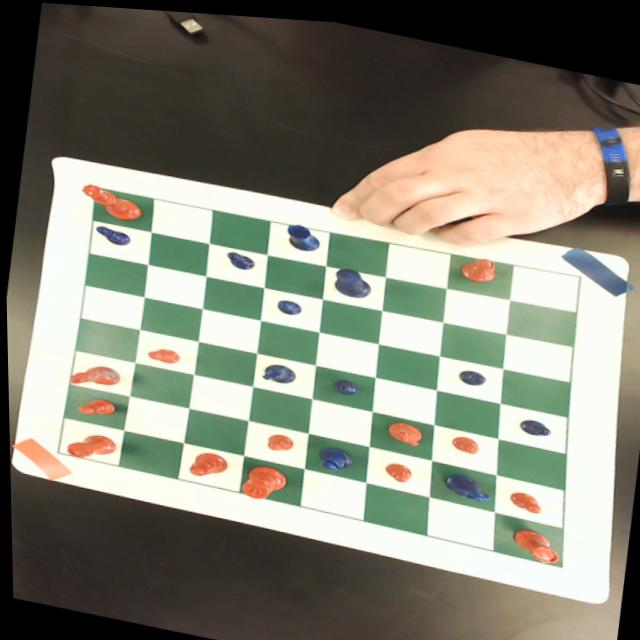B: (316, 439, 353, 469)
K: (331, 261, 374, 296)
N: (440, 463, 493, 498), (258, 357, 297, 383)
P: (93, 221, 131, 245), (515, 409, 553, 432), (454, 360, 486, 382), (223, 246, 254, 268), (329, 372, 359, 392), (274, 294, 302, 312)
R: (283, 218, 320, 248)
b: (186, 445, 230, 479), (457, 247, 498, 278)
k: (237, 457, 287, 500)
n: (68, 358, 121, 393), (381, 413, 425, 442)
p: (74, 392, 117, 419), (505, 481, 543, 508), (145, 341, 182, 364), (381, 454, 413, 480), (449, 427, 479, 449), (265, 427, 293, 450)
q: (78, 180, 144, 222)
r: (506, 517, 563, 559), (62, 426, 115, 464)
